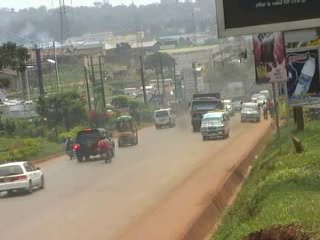Car: (0, 159, 45, 201), (73, 125, 117, 164), (221, 97, 235, 117), (232, 98, 243, 111)
Motorcycle: (96, 132, 115, 166), (64, 134, 76, 161)
